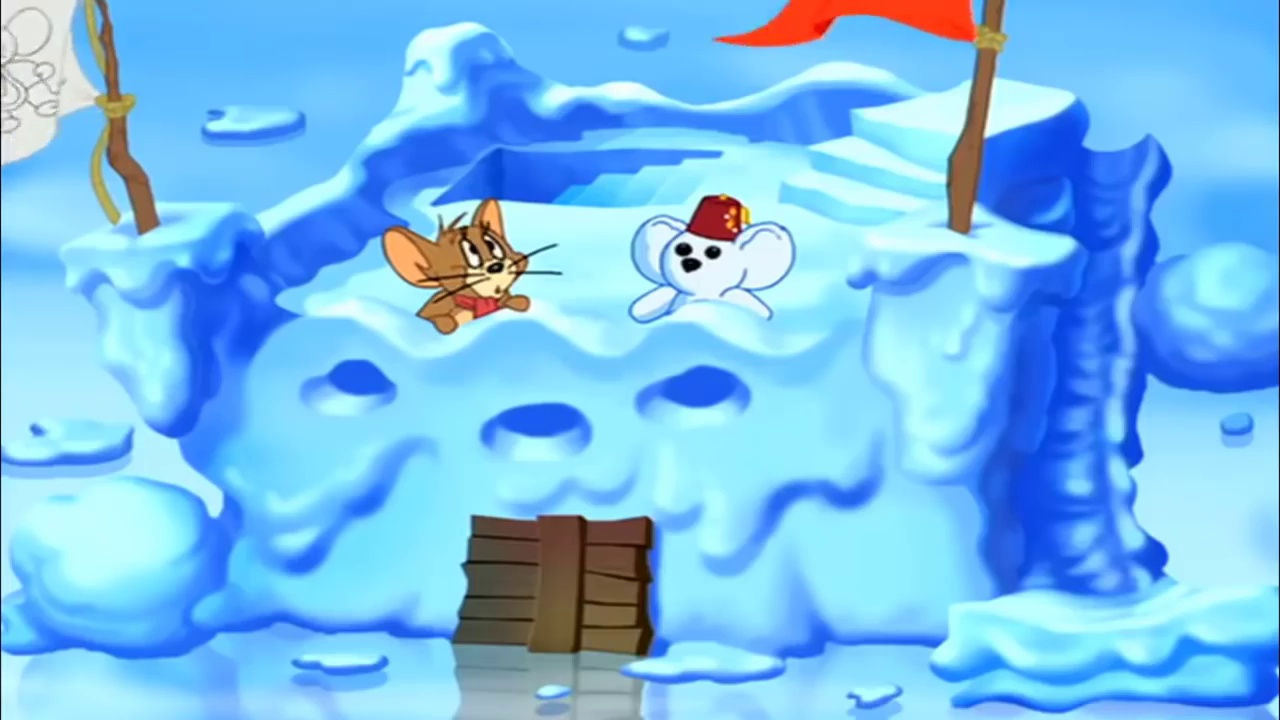face: (442, 223, 518, 306)
